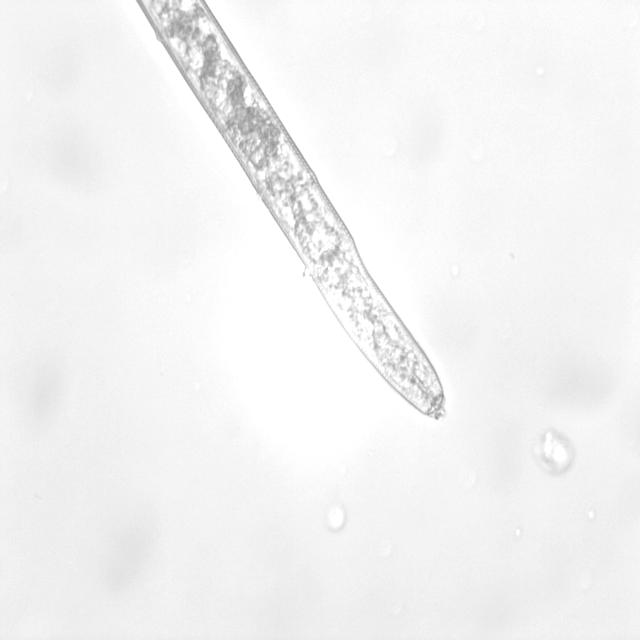Pratylenchus: (127, 0, 461, 429)
